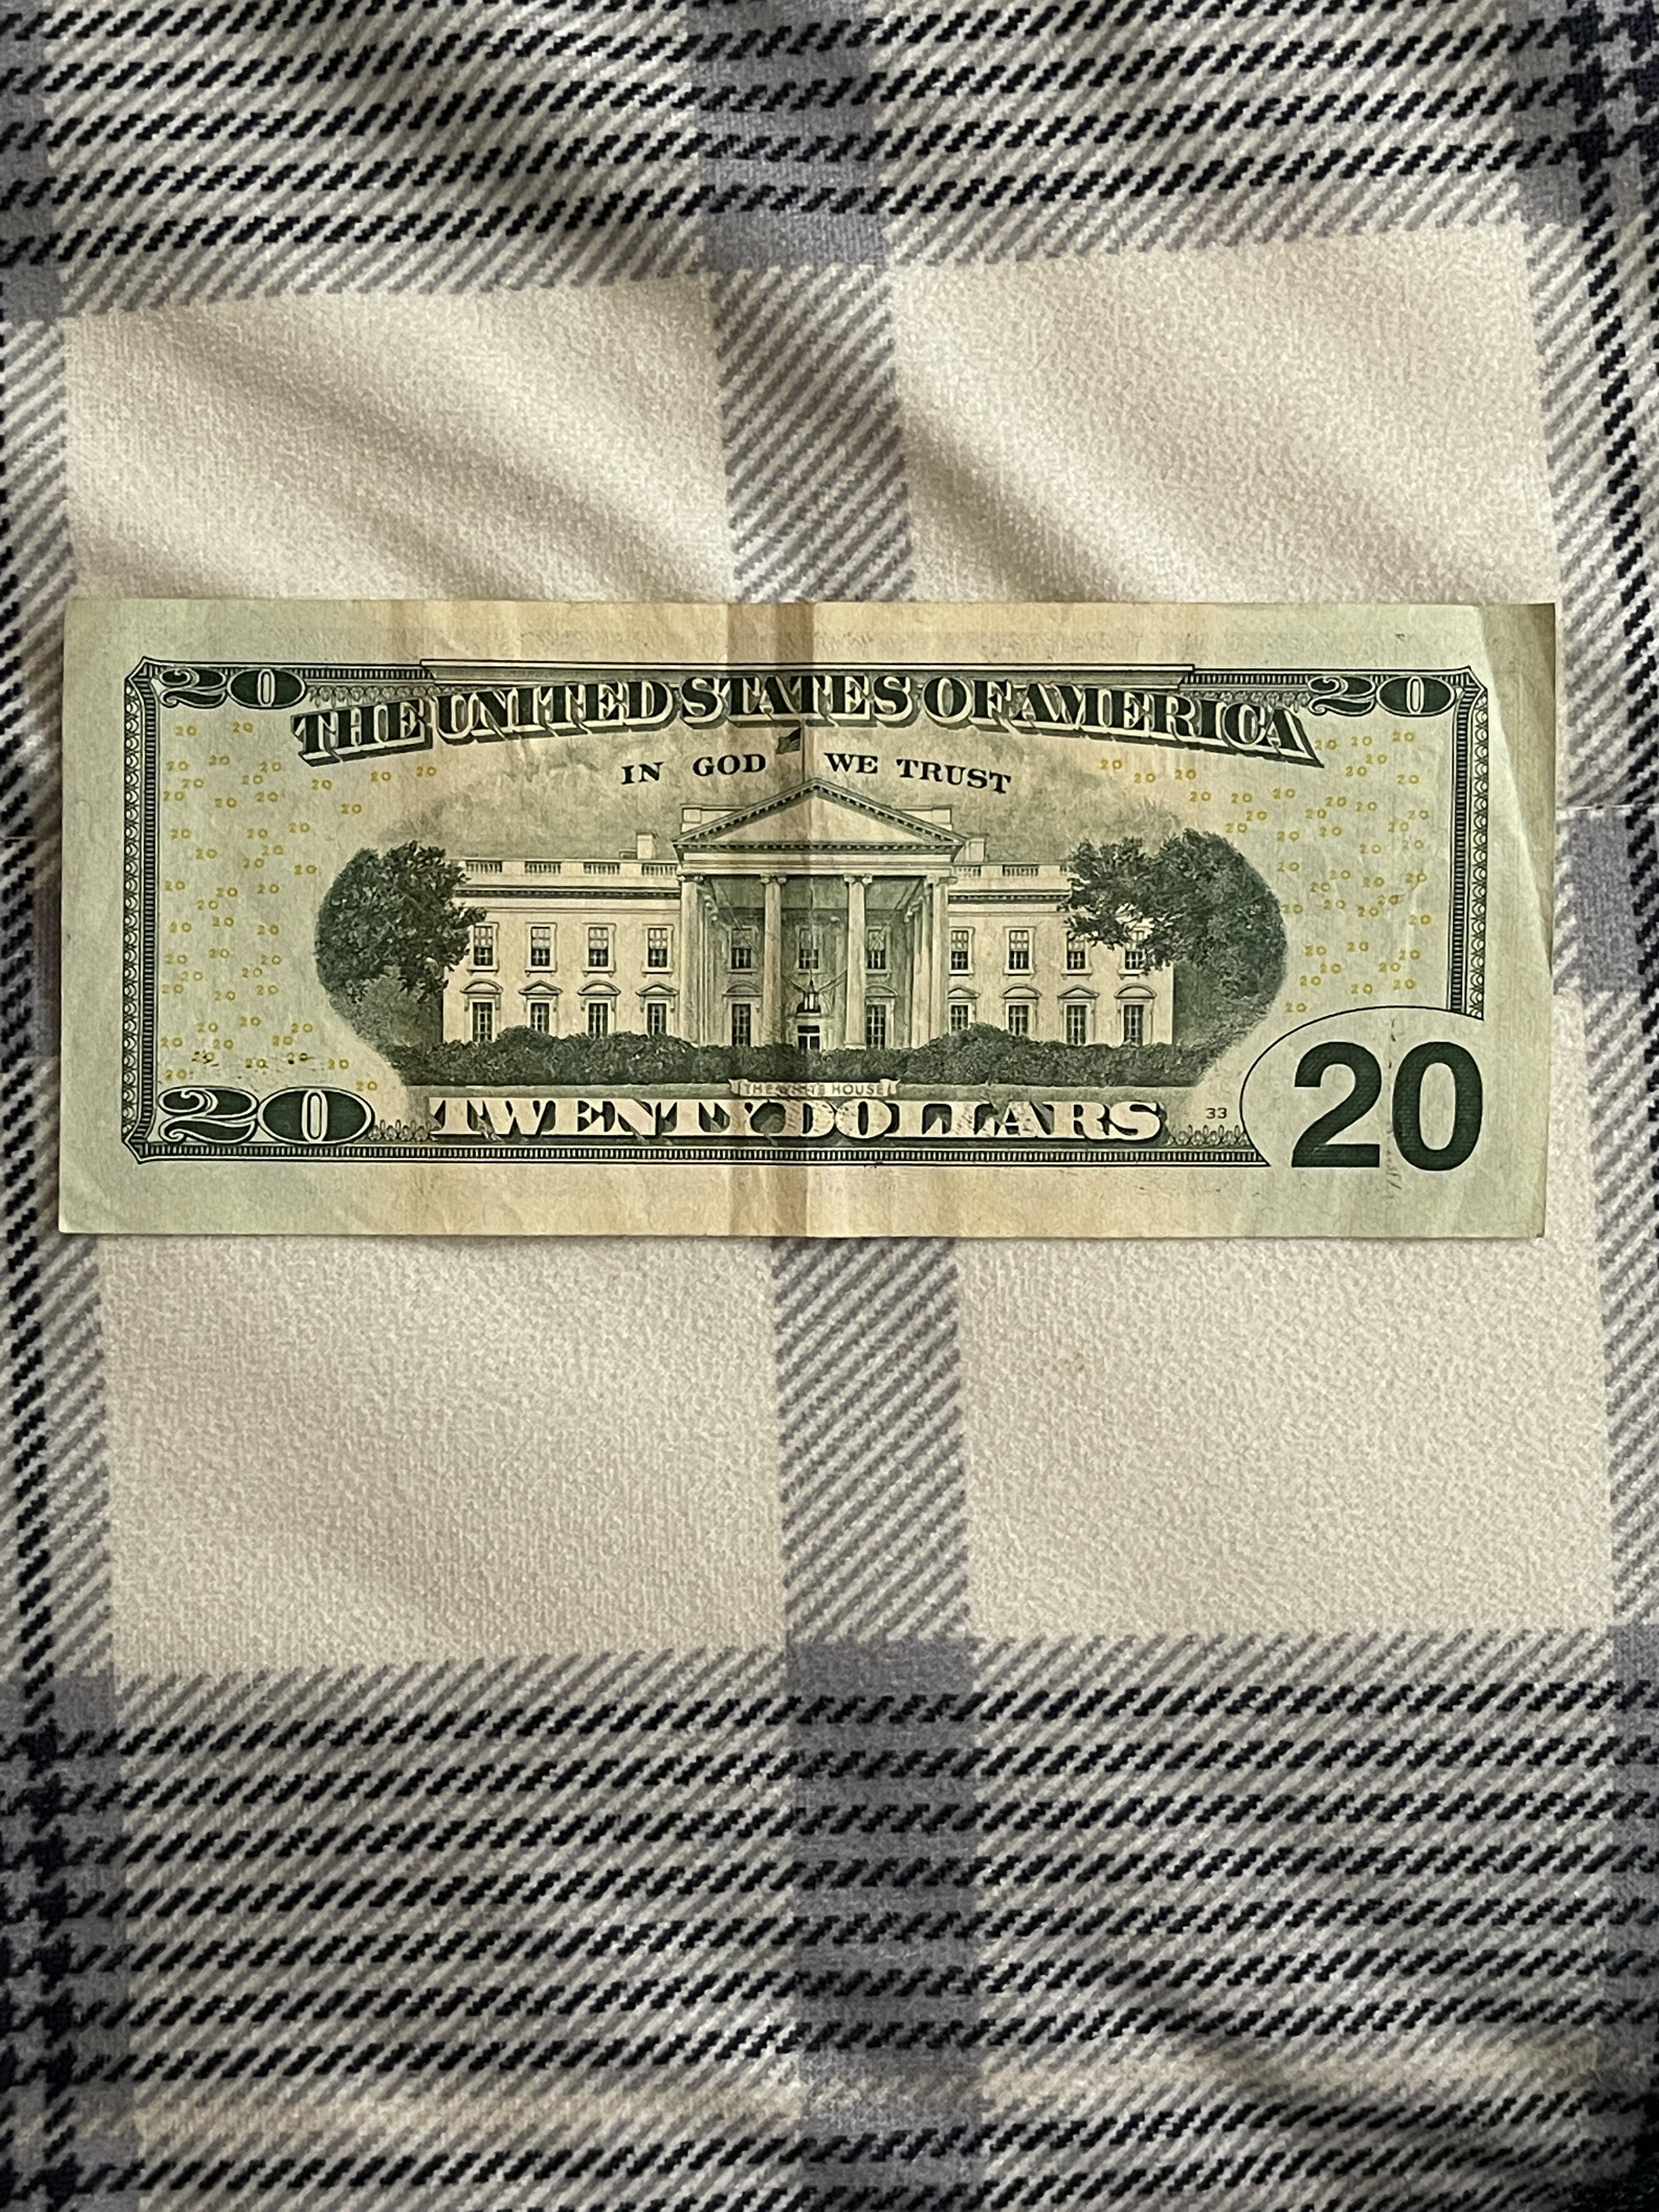TwentyBill: (52, 589, 1565, 1251)
